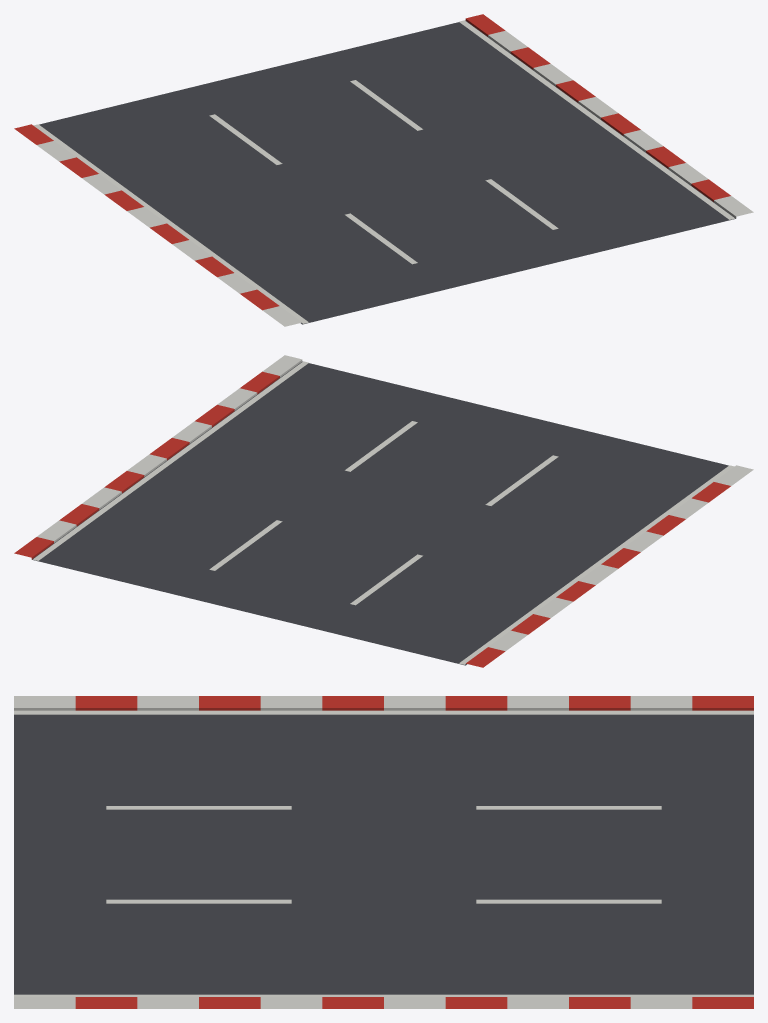
File: road_straight.glb
3 renders of one model, top to bottom at view 1: azimuth 30°, elevation 25°; view 2: azimuth 150°, elevation 25°; view 3: azimuth 270°, elevation 25°, orthographic. The views are drawn at different scales.
Parts seen in each view (by area): view 1: road_straight; view 2: road_straight; view 3: road_straight.
Part boxes in pixels (x1,y1,x2,y2): road_straight: (14,14,753,326); road_straight: (14,355,753,667); road_straight: (14,696,753,1008).
Bounding box in the file's own units: 12 × 0.05 × 12.
